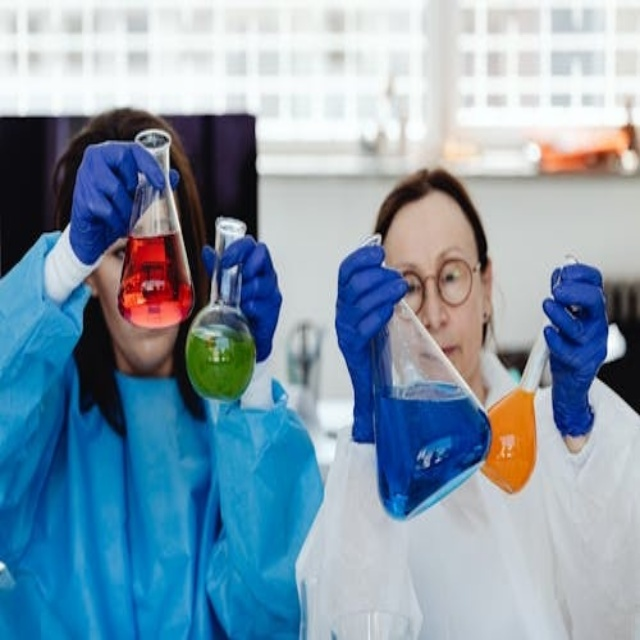Gafas: (397, 255, 483, 314)
Guantes: (335, 240, 410, 444), (64, 139, 177, 273), (542, 258, 608, 442), (200, 236, 283, 366)
Sin_mascara: (419, 336, 475, 388)
